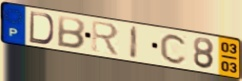8: (192, 36, 215, 70)
B: (56, 15, 87, 51)
C: (159, 33, 190, 66)
D: (28, 10, 56, 46)
I: (129, 24, 140, 61)
R: (90, 19, 121, 58)
